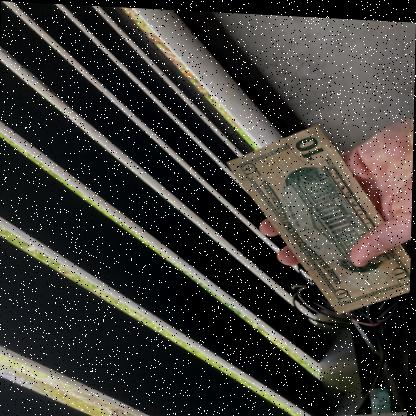ten-back: (222, 121, 413, 317)
